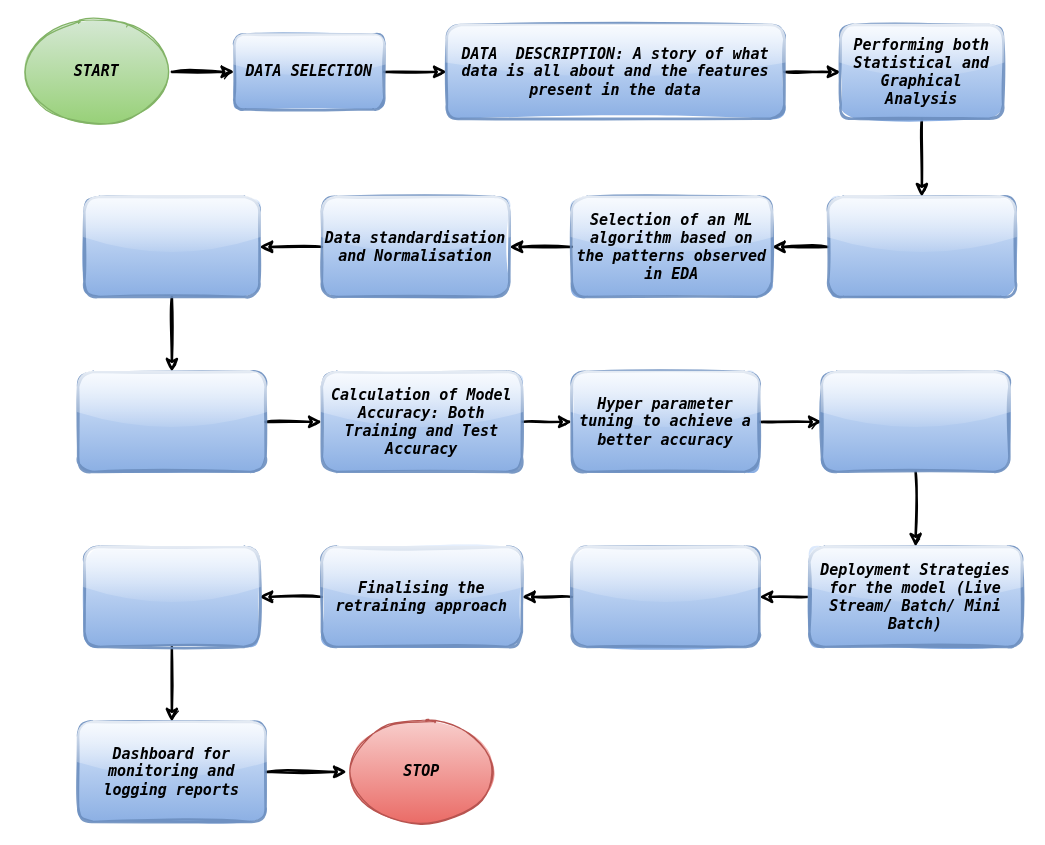
Some shapes in this 1045 by 845 pixel diagram are drawn without their labels. Each missing label, with the box of its shape:
Creation of Train and Test data sets using optimum parameters: (82, 195, 260, 298)
Data Transformation and derivation of new attributes if necessary: (826, 195, 1016, 298)
Logging and Monitoring (Maintaining the audit tables): (82, 545, 260, 648)
Model training using ML algorithm tested in the previous steps: (76, 370, 266, 472)
Production deployment and testing: (570, 545, 760, 648)
Saving the created model file: (820, 370, 1010, 472)
